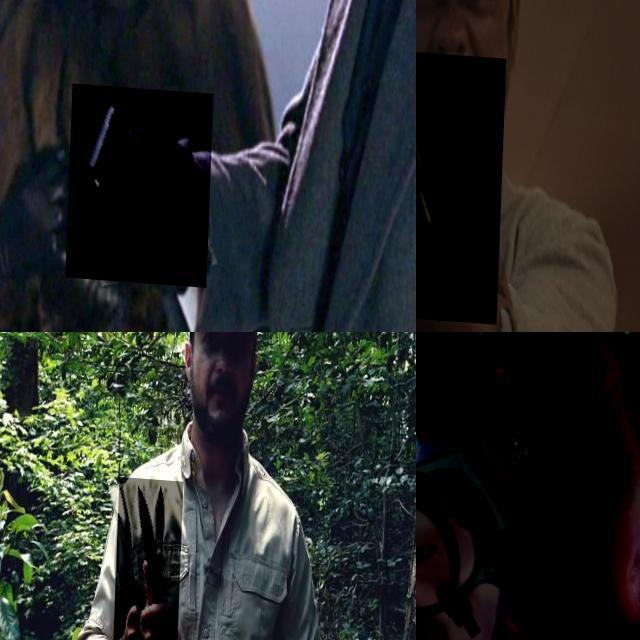-: (116, 473, 185, 640)
gun-knife-thesis - v11 Yolov5 augmented: (416, 332, 640, 640), (70, 80, 216, 282), (416, 44, 508, 317)
